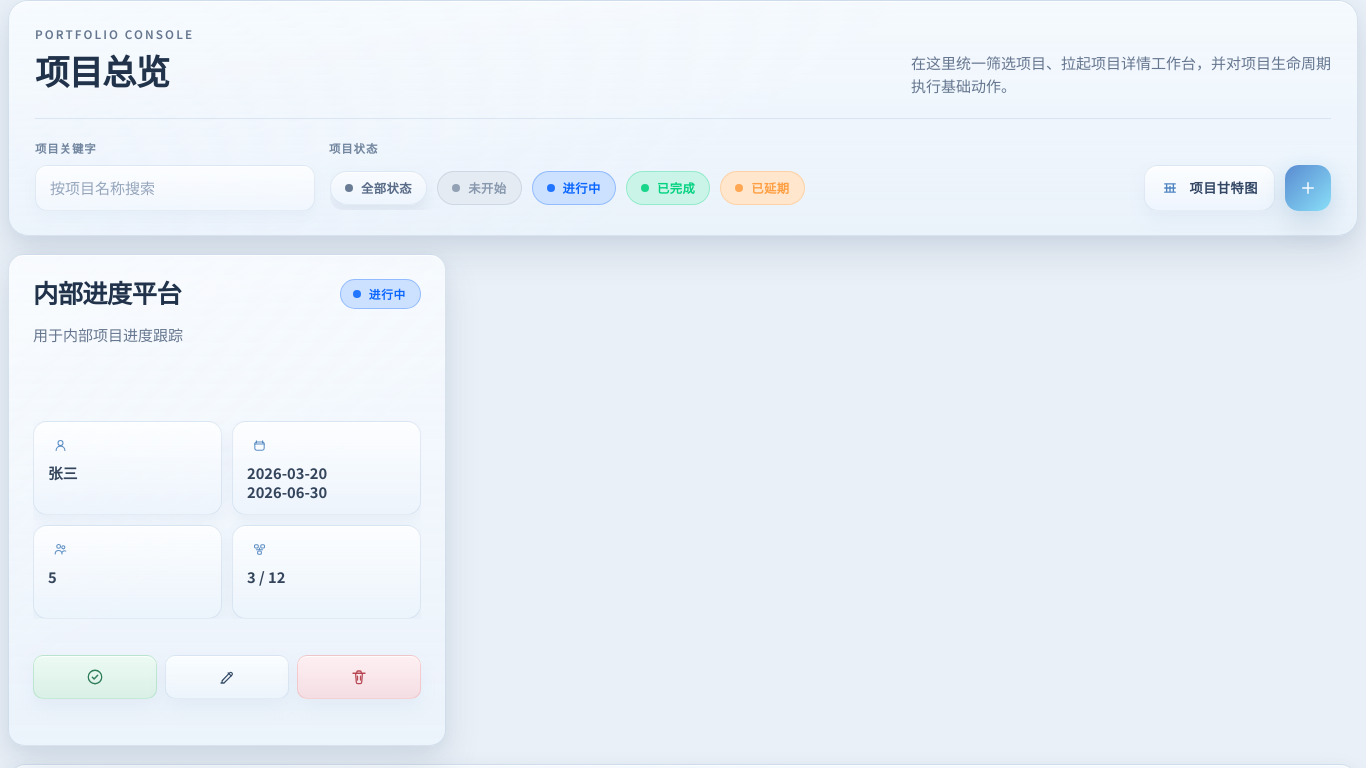
ProjectListView › renders an explicit close button label in the gantt dialog toolbar so exit is visible at a glance
Expected: the heading "内部进度平台" is shown, top-left (33, 274), bottom-right (181, 310)
Step 1. Click the button with aria-label "打开项目甘特图" → (1210, 188), box top-left (1144, 165), bottom-right (1275, 211)
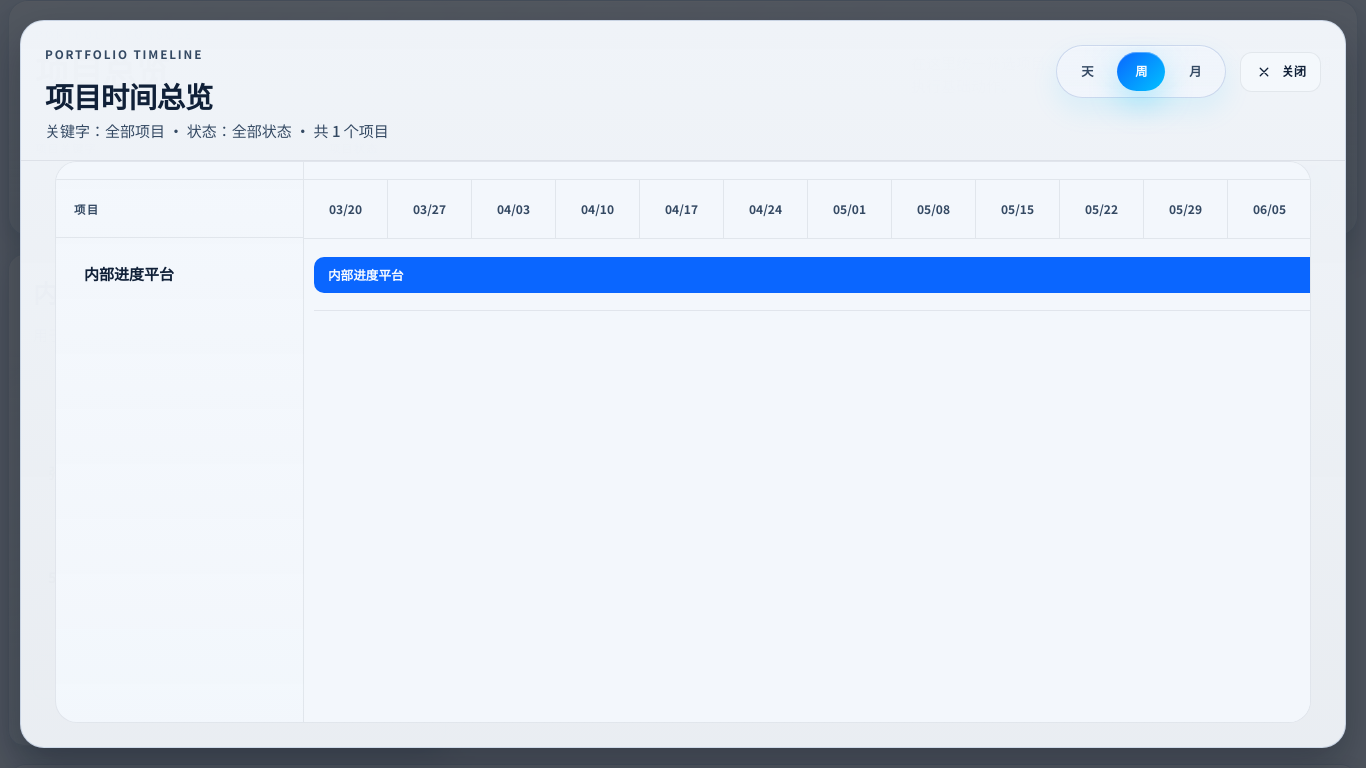
Result: the heading "项目时间总览" is shown at top-left (45, 76), bottom-right (213, 116)
Result: the button with aria-label "关闭项目甘特图" reads "关闭" at top-left (1240, 52), bottom-right (1321, 92)
